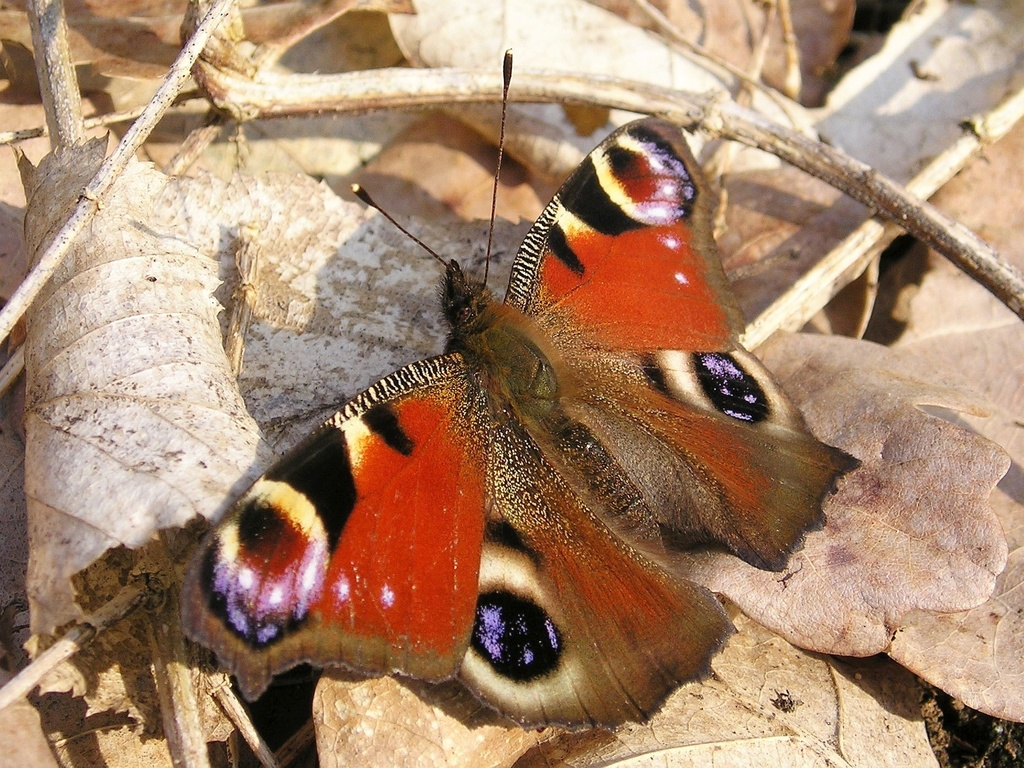Butterfly: (190, 113, 875, 717)
